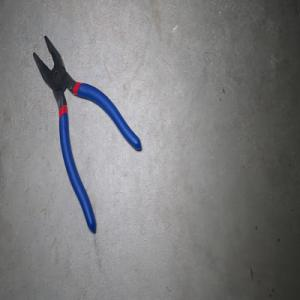Pliers: (32, 35, 141, 233)
